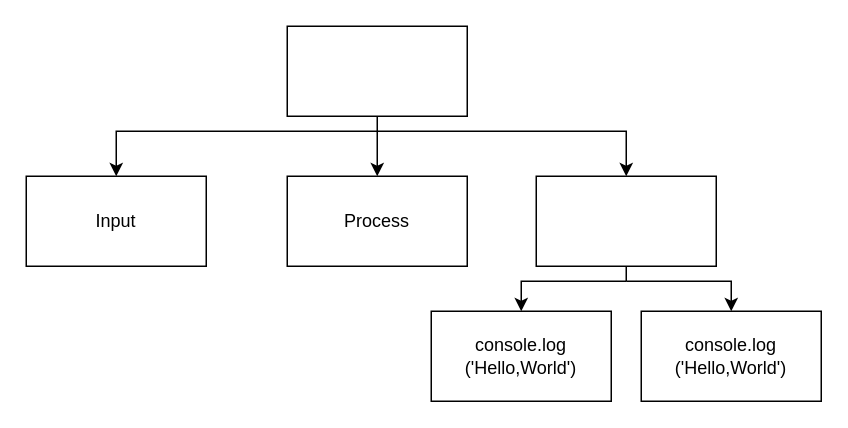
Some shapes in this 848 by 428 pixel diagram are drawn without their labels. Each missing label, with the centre of its shape:
"Hello World" belongs at point 376,70.
"Output" belongs at point 625,220.
